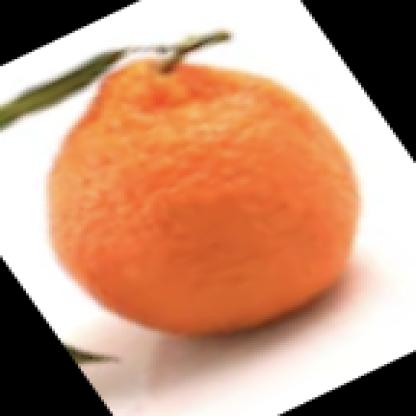fresh: (46, 52, 358, 333)
